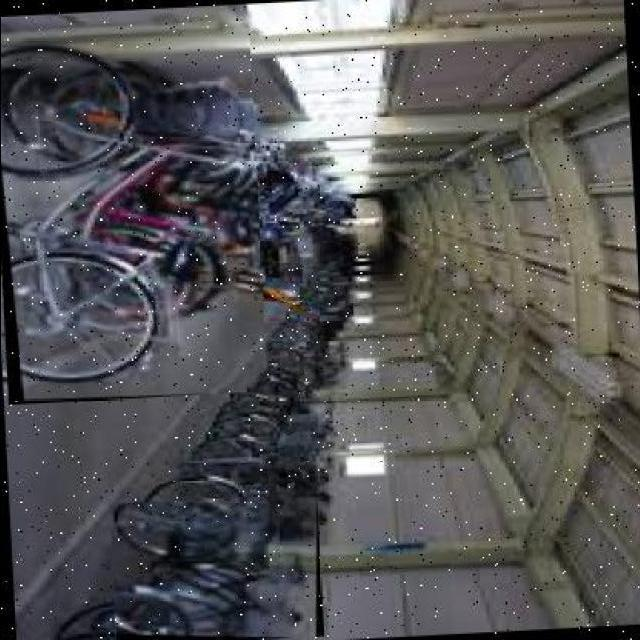bicycle: (2, 6, 268, 409), (108, 494, 326, 640)
